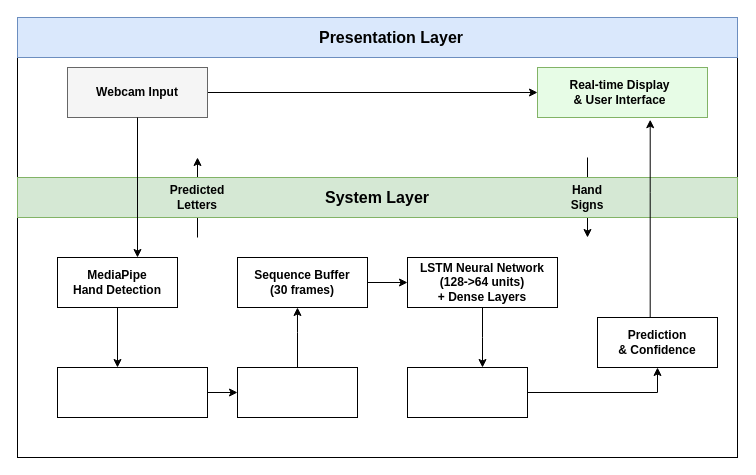
Some shapes in this 756 by 475 pixel diagram are drawn without their labels. The centre of each missing label's shape, as x and y in pixels:
Classification (26 ASL letters): the point at 467,392
Landmark Extraction (21 points x 2 coords): the point at 132,392
Normalization & Sequencing: the point at 297,392
